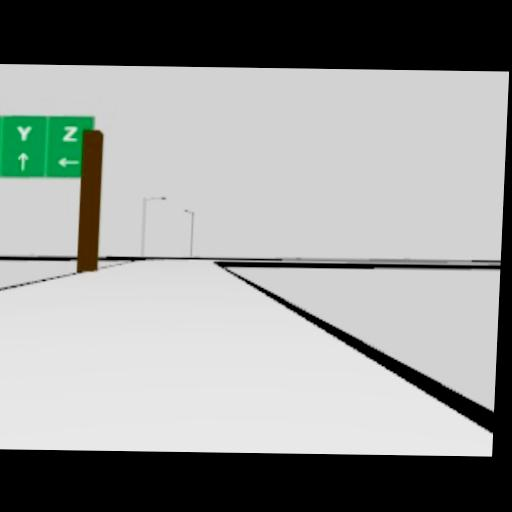Left: (56, 154, 80, 166)
Straight: (17, 150, 29, 169)
Y: (14, 123, 32, 140)
Z: (60, 123, 78, 141)
